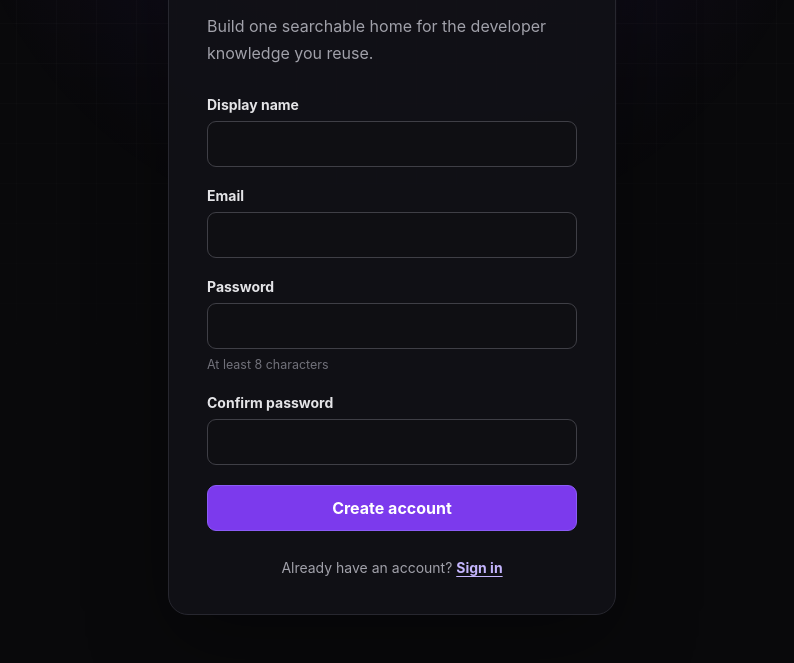
authentication forms › validates registration before making a write request
(page scrolled)
Click the button "Create account". click: click(392, 508)
box: [207,485,577,531]
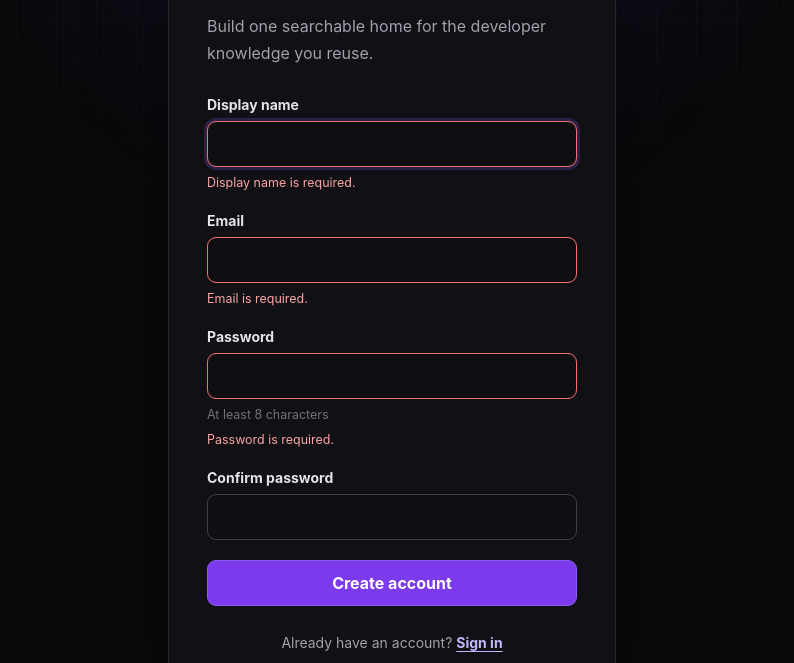
Result: the text "Display name is required." is shown at [207,175,356,190]
Result: the text "Email is required." is shown at [207,291,308,306]
